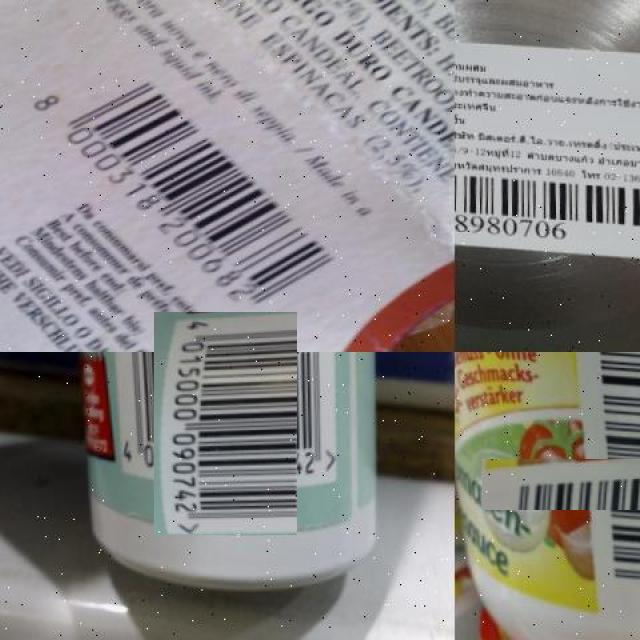Barcode: (22, 68, 354, 335), (134, 332, 317, 515), (535, 405, 640, 563), (455, 162, 640, 250)
